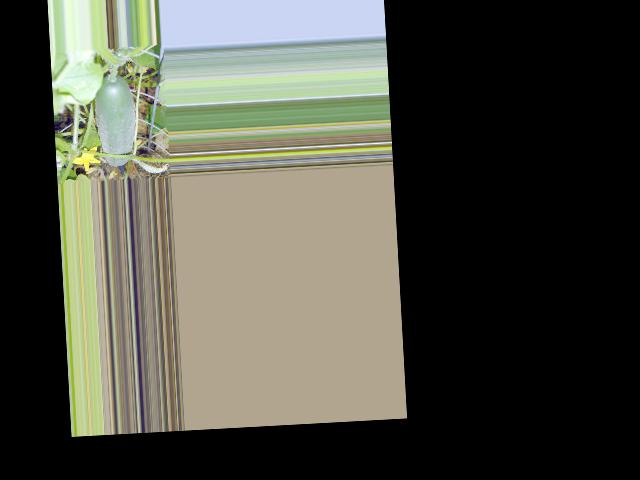cucumber: (93, 73, 138, 166)
